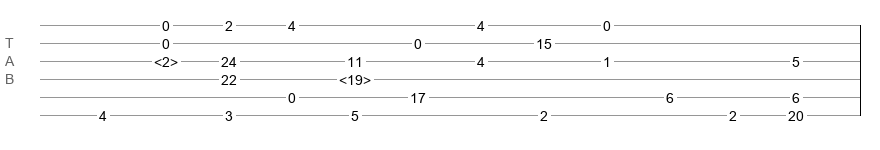0: (162, 18, 170, 28), (162, 36, 170, 46), (288, 90, 296, 100), (414, 36, 422, 46), (603, 18, 611, 28)
1: (603, 54, 611, 64)
11: (347, 54, 363, 64)
15: (536, 36, 552, 46)
17: (410, 90, 426, 100)
2: (225, 18, 233, 28), (540, 108, 548, 118), (729, 108, 737, 118)
20: (788, 108, 804, 118)
22: (221, 72, 237, 82)
24: (221, 54, 237, 64)
3: (225, 108, 233, 118)
4: (99, 108, 107, 118), (288, 18, 296, 28), (477, 54, 485, 64), (477, 18, 485, 28)
5: (351, 108, 359, 118), (792, 54, 800, 64)
6: (666, 90, 674, 100), (792, 90, 800, 100)
harmonic: (339, 72, 371, 82), (154, 54, 178, 64)
